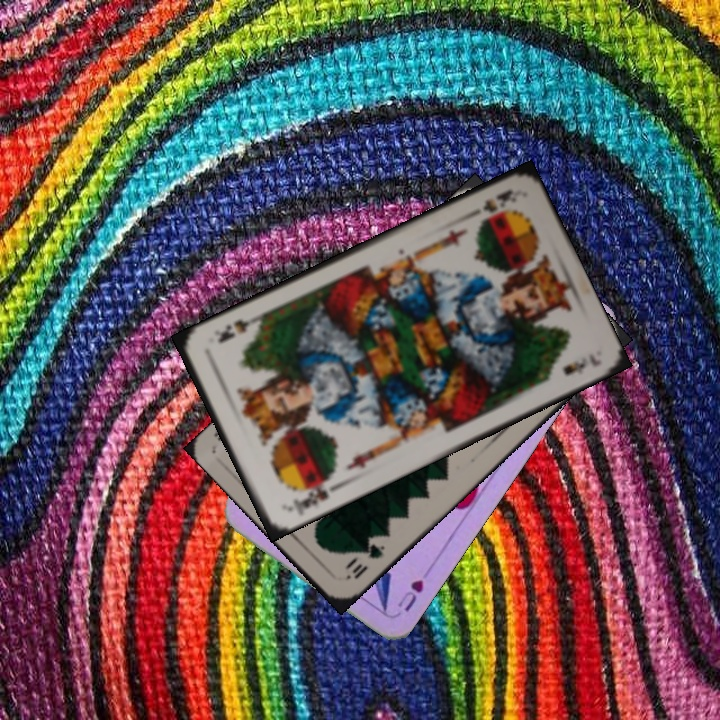G10: (342, 539, 388, 583)
HU: (393, 575, 426, 614)
SK: (282, 473, 334, 518), (478, 185, 520, 215)
